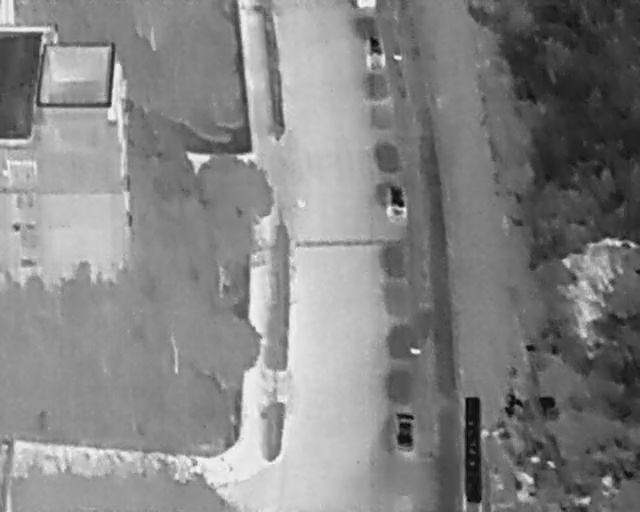Car: (393, 410, 416, 454), (364, 33, 387, 71), (386, 183, 408, 222), (355, 0, 376, 9)
